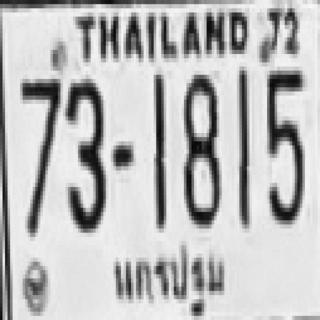N01: (152, 73, 165, 226), (236, 68, 248, 226)
N03: (64, 75, 105, 229)
N05: (265, 67, 302, 220)
N07: (19, 75, 59, 233), (20, 75, 60, 216)
N08: (181, 71, 219, 224)
P28: (110, 244, 231, 320)
